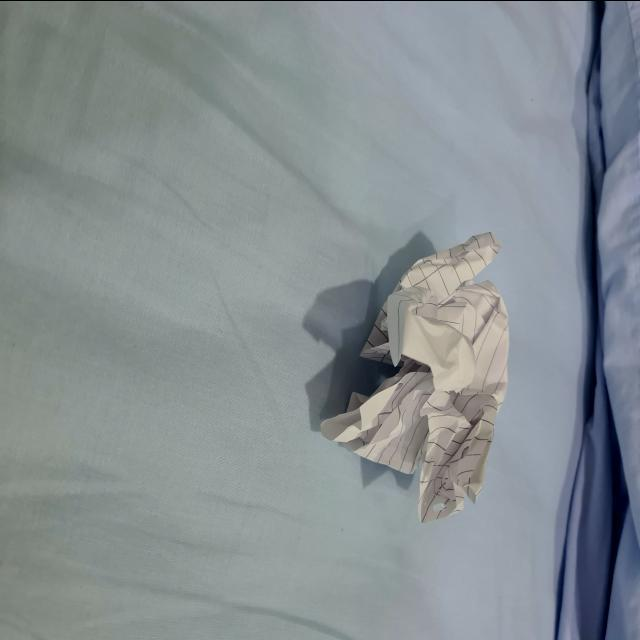Paper: (290, 215, 537, 538)
